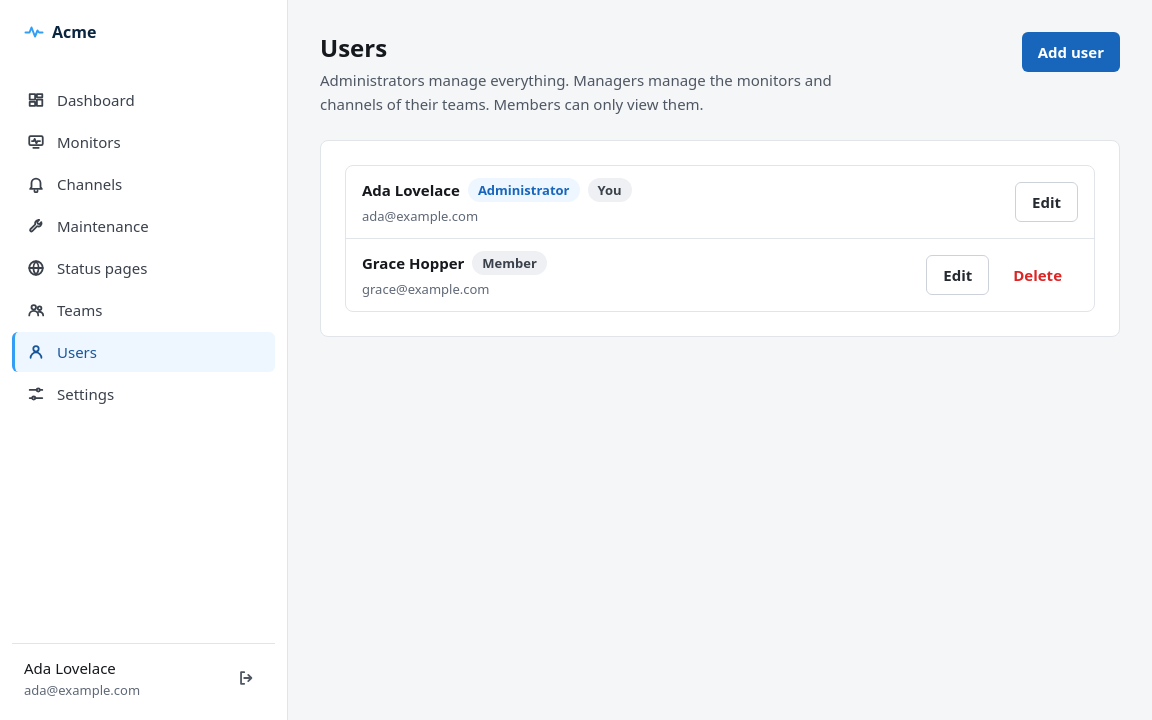
UsersPage › hides team access for administrators
The image size is (1152, 720).
Click the button with aria-label "Edit: Ada Lovelace" at (1046, 202), box [1015,182,1078,222]
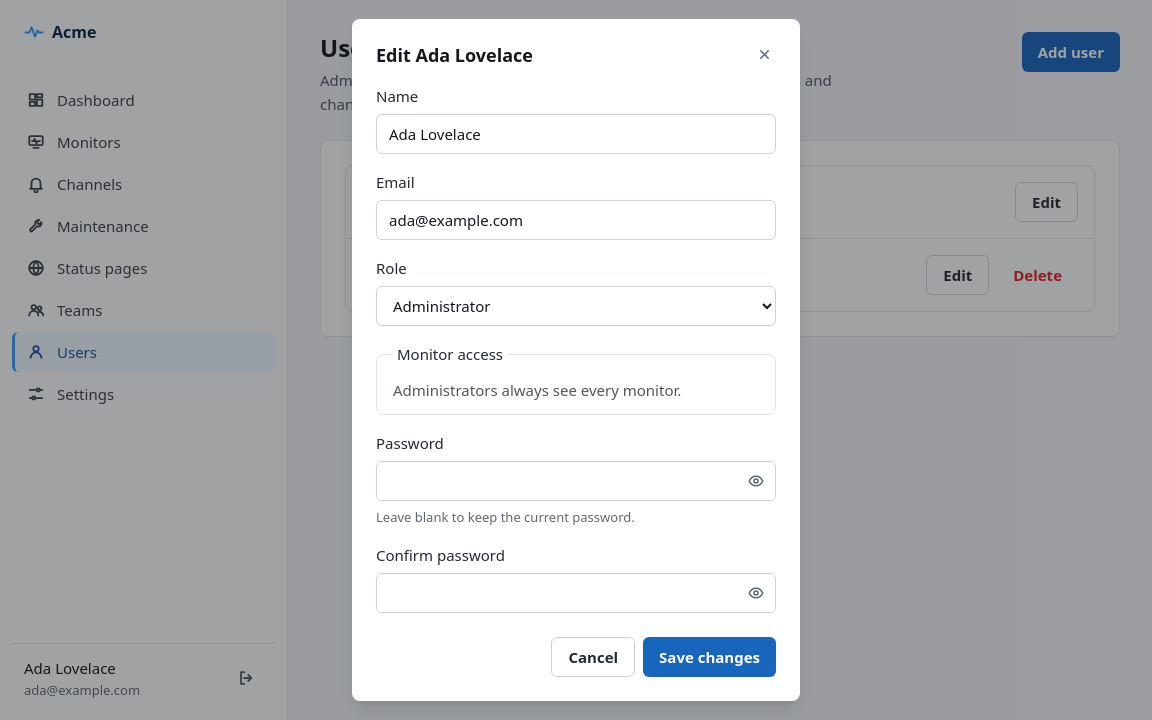
Result: the text "Administrators always see every monitor." is shown at [393,380,681,400]
